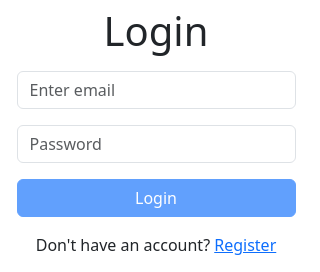
LandPage › should disable login button if email or password is missing
The width and height of the screenshot is (320, 272).
Expected: the button "Login" is disabled, [16,179,296,217]
In the field with placeholder "Enter email": point(156, 90) [16,71,296,109], type "test@example.com"
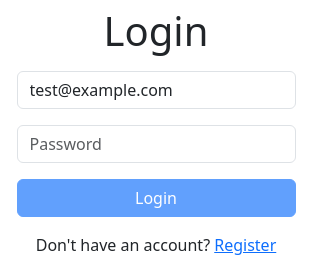
Expected: the button "Login" is disabled, [16,179,296,217]
In the password field with placeholder "Password": point(156, 144) [16,125,296,163], type "password"
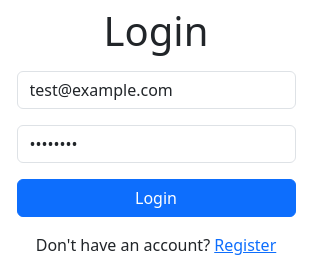
Expected: the button "Login" is enabled, [16,179,296,217]
